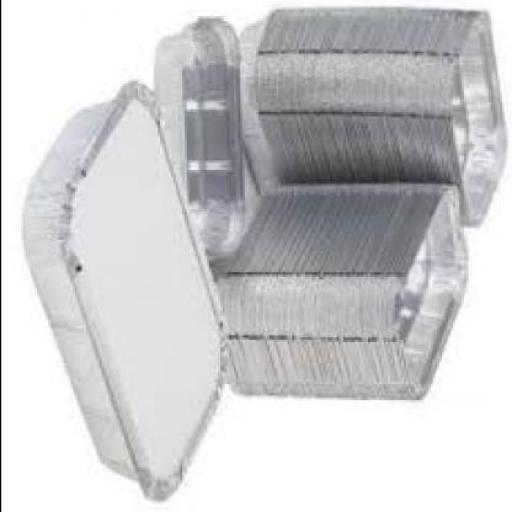metal: (27, 86, 233, 502), (239, 12, 508, 228), (214, 188, 465, 400), (155, 21, 243, 253)
